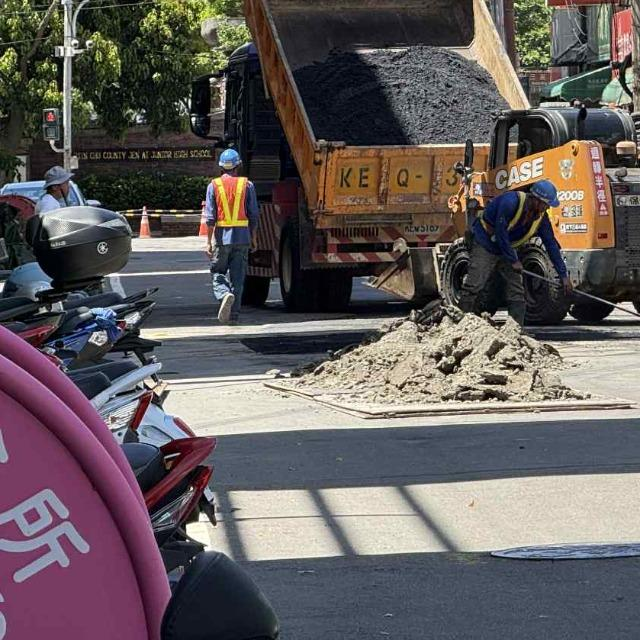Vest: (206, 173, 260, 241)
